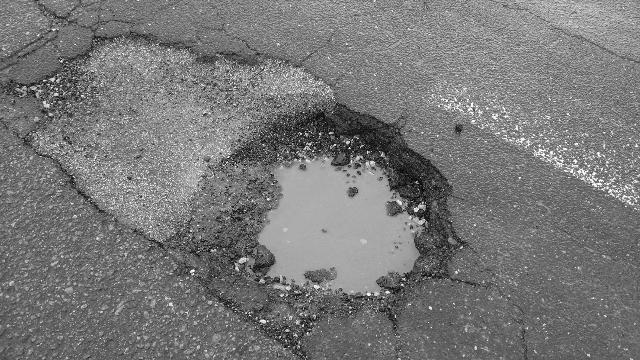Pothole: (178, 76, 472, 318)
